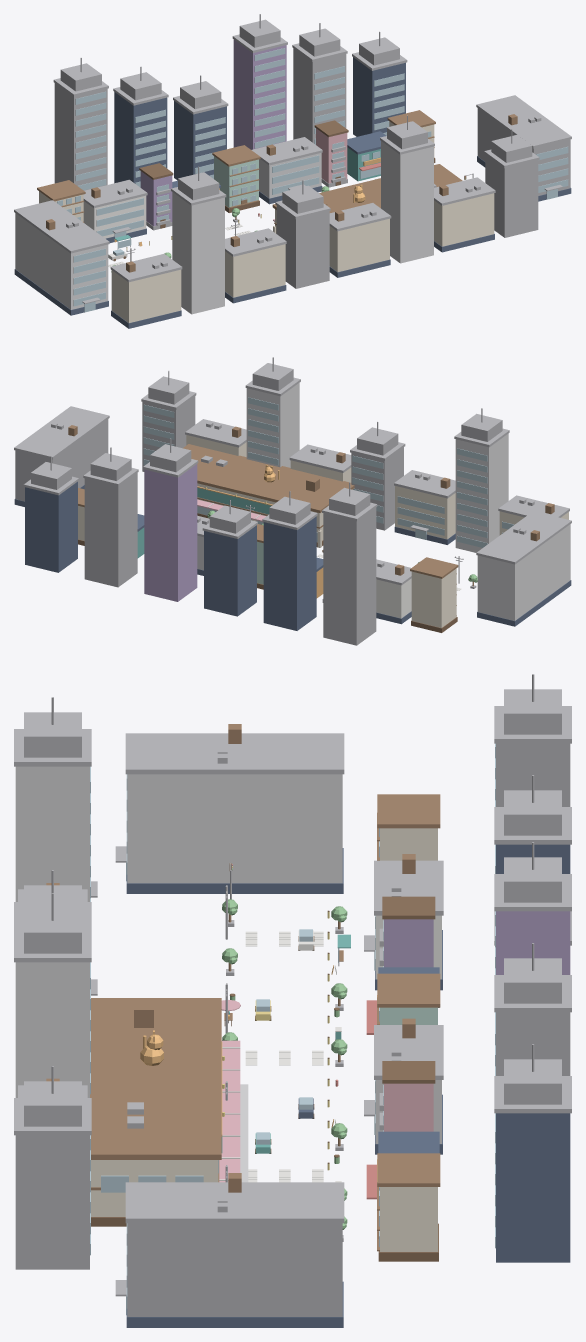
Rendered from CityLayout.fbx.
The picture shows the model from 3 angles, top to bottom: view 1: azimuth 30°, elevation 25°; view 2: azimuth 150°, elevation 25°; view 3: azimuth 270°, elevation 25°; orthographic projection. The views are drawn at different scales.
Visible parts, largest first — view 1: NB2_body, NB6_body, EEnd_body, SB2_body, SB5_body, NB0_body, NB4_body, SB1_body, SB4_body, NB7_body, SB0_body, NB1_body (+35 smaller); view 2: SB5_body, SB2_body, SB1_body, SB4_body, EEnd_body, SX_roof, SB3_body, SB0_body, NB6_body, NB2_body, WEnd_body, WEnd_roof (+27 smaller); view 3: EEnd_body, WEnd_body, SX_roof, SB0_body, NB0_body, NB2_body, NB6_body, WEnd_roof, EEnd_roof, SB1_body, SB2_body, SB5_body (+38 smaller).
Boxes of the visible parts, <box> form: NB2_body: <box>381,141,433,263</box>; NB6_body: <box>172,192,224,314</box>; EEnd_body: <box>15,213,108,309</box>; SB2_body: <box>233,39,286,149</box>; SB5_body: <box>54,83,107,190</box>; NB0_body: <box>485,154,538,237</box>; NB4_body: <box>276,206,329,288</box>; SB1_body: <box>293,48,346,143</box>; SB4_body: <box>114,92,167,183</box>; NB7_body: <box>111,269,181,322</box>; SB0_body: <box>353,57,405,136</box>; NB1_body: <box>434,193,494,246</box>; SB5_body: <box>323,507,376,645</box>; SB2_body: <box>144,464,197,601</box>; SB1_body: <box>84,473,137,587</box>; SB4_body: <box>263,516,316,630</box>; EEnd_body: <box>477,524,570,620</box>; SX_roof: <box>183,444,354,512</box>; SB3_body: <box>204,525,256,616</box>; SB0_body: <box>25,481,77,572</box>; NB6_body: <box>455,433,508,552</box>; NB2_body: <box>246,383,299,467</box>; WEnd_body: <box>15,419,108,501</box>; WEnd_roof: <box>14,406,109,459</box>; EEnd_body: <box>127,774,342,883</box>; WEnd_body: <box>127,1223,342,1316</box>; SX_roof: <box>90,998,221,1159</box>; SB0_body: <box>496,1113,570,1262</box>; NB0_body: <box>15,1135,89,1269</box>; NB2_body: <box>15,962,89,1097</box>; NB6_body: <box>15,766,89,901</box>; WEnd_roof: <box>125,1182,344,1223</box>; EEnd_roof: <box>125,733,344,774</box>; SB1_body: <box>496,1012,570,1075</box>; SB2_body: <box>496,911,570,974</box>; SB5_body: <box>496,743,570,806</box>.
Bounding box in the file's own units: 134 × 39 × 67.4.
